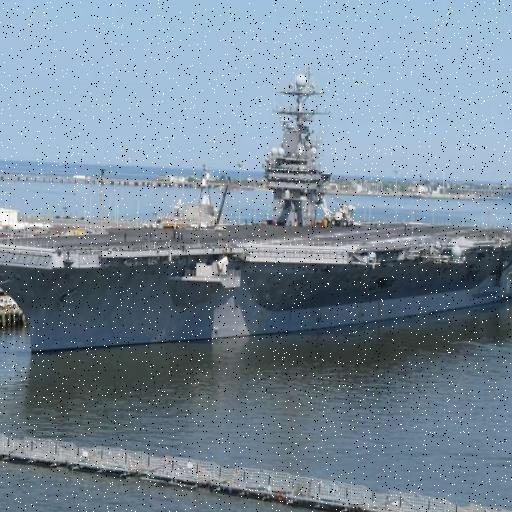Portanaves: (1, 71, 512, 362)
